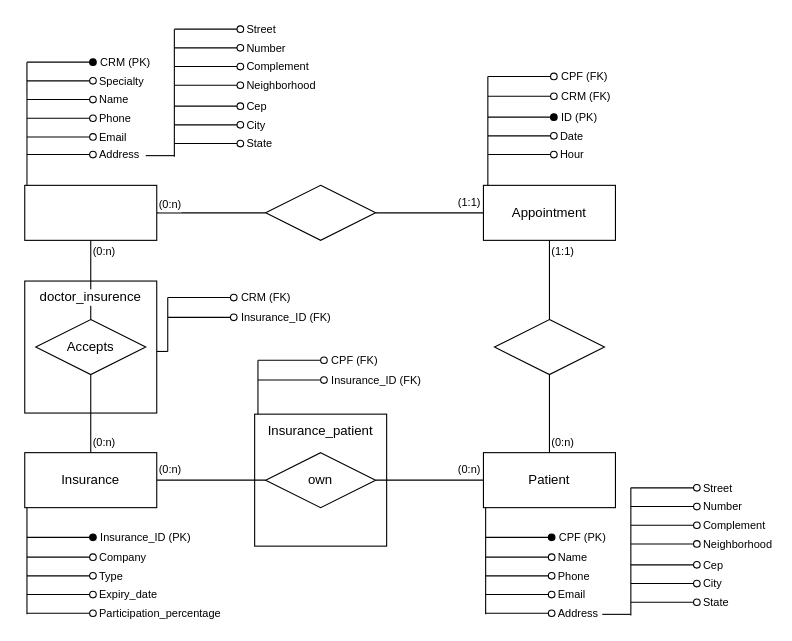
This 792x641 diagram has some shape labels left out. The centre of each missing label's shape, as x and y in pixels:
"Doctor" goes at (x=90, y=212).
"has" goes at (x=548, y=346).
"makes" goes at (x=320, y=212).
